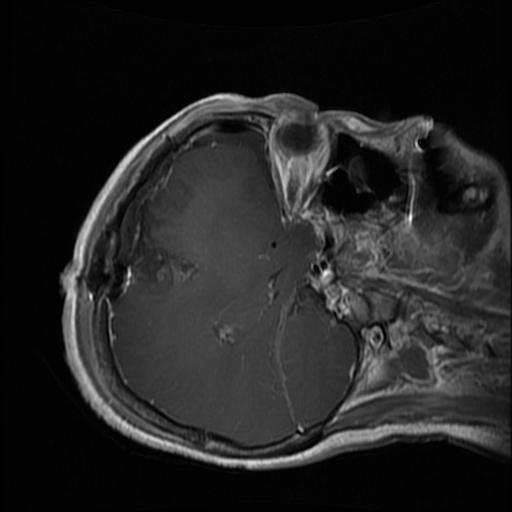glioma: (115, 189, 197, 300)
